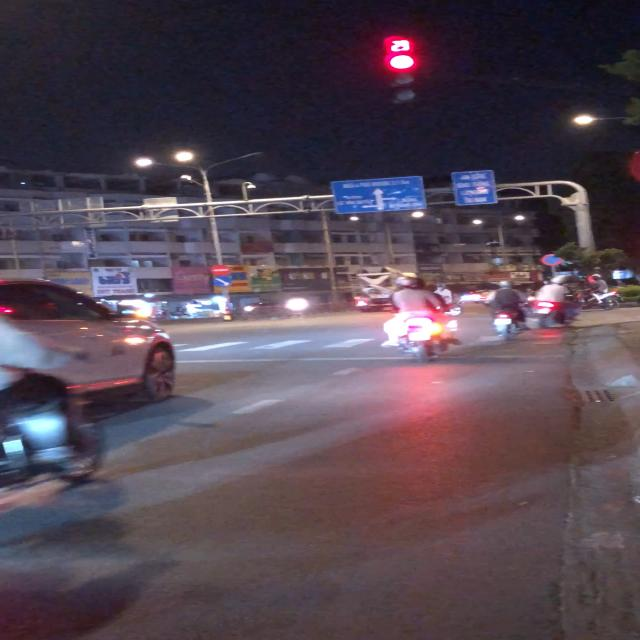Bien bao cam di nguoc chieu: (209, 264, 233, 276)
Bien bao huong phai di vong chuong ngai vat: (211, 276, 234, 288)
